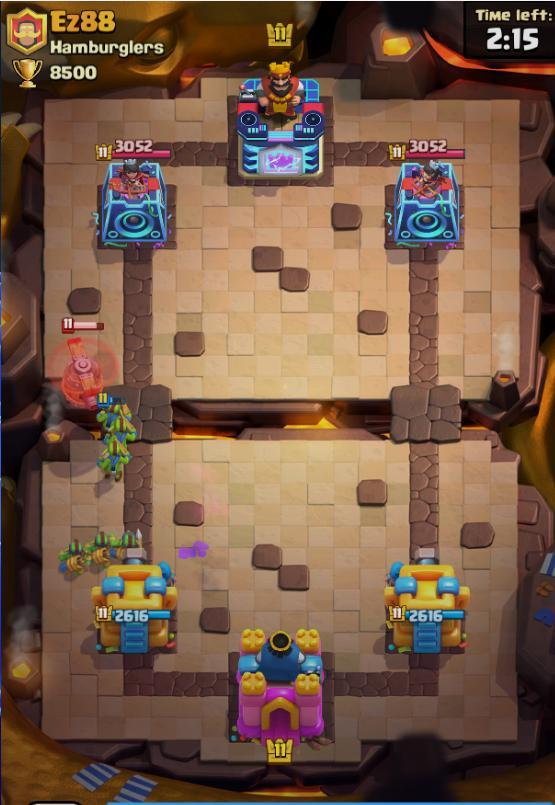EFlyingMachine: (59, 337, 103, 409)
EKingTower: (237, 62, 324, 179)
EnemyPrincessTower: (385, 140, 464, 248), (98, 141, 169, 248)
OCannoneerTower: (386, 551, 469, 652), (92, 554, 176, 653)
OGoblin: (96, 393, 131, 428), (97, 445, 128, 480), (105, 413, 136, 447)
OSpearGoblin: (61, 541, 95, 576), (89, 531, 122, 564), (119, 529, 143, 549)
OwnKingTower: (229, 629, 331, 746)
